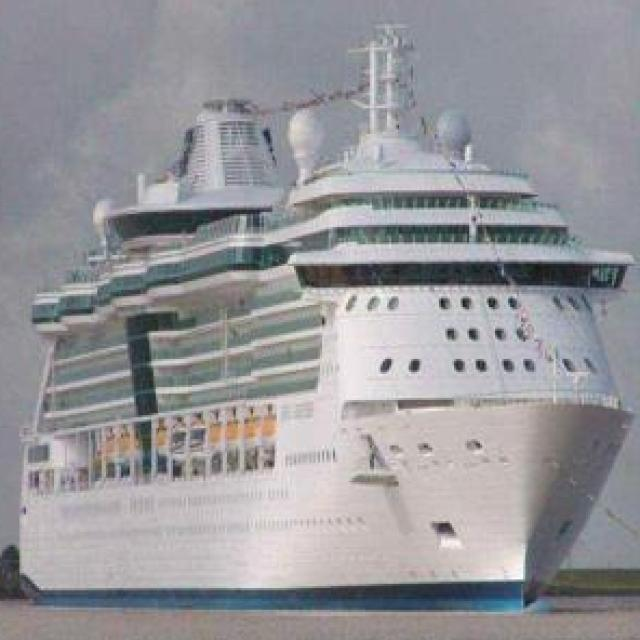passenger ship: (18, 29, 625, 610)
